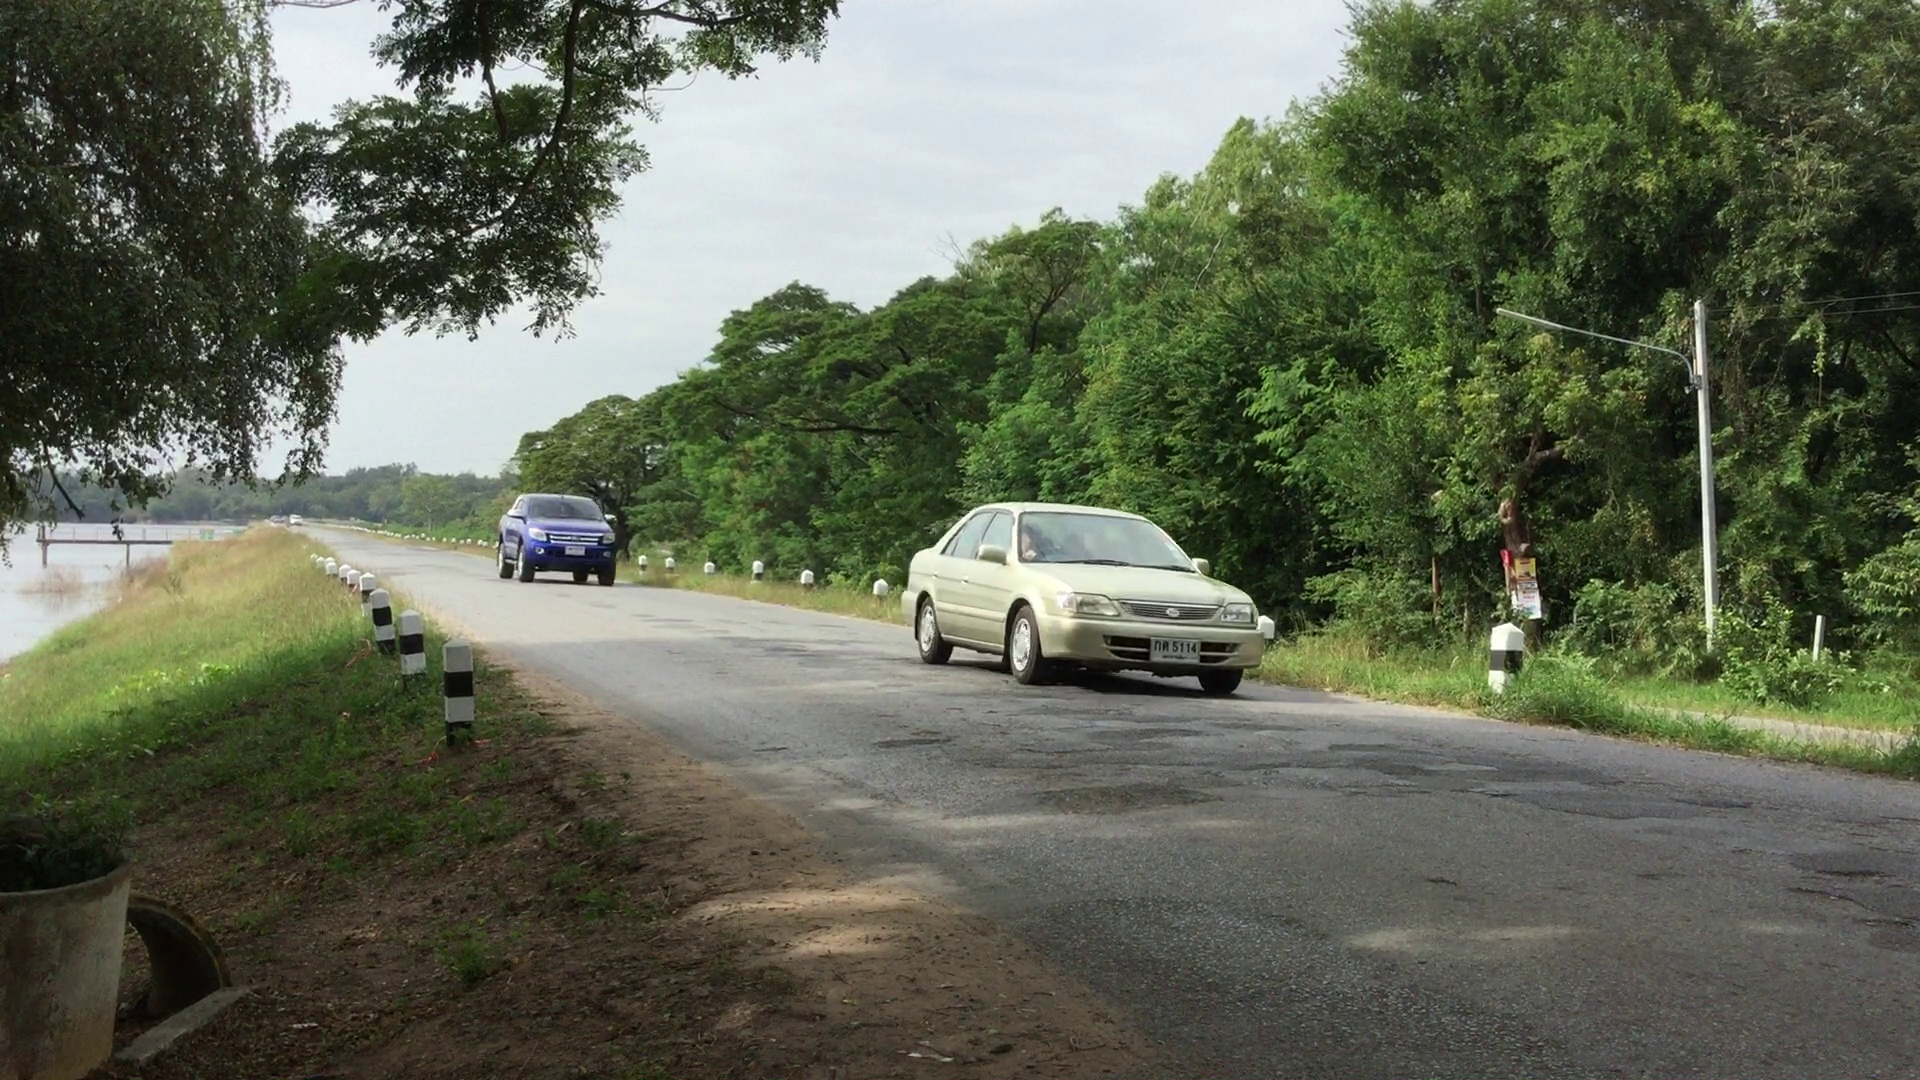car: (905, 508, 1262, 702), (495, 495, 613, 580)
